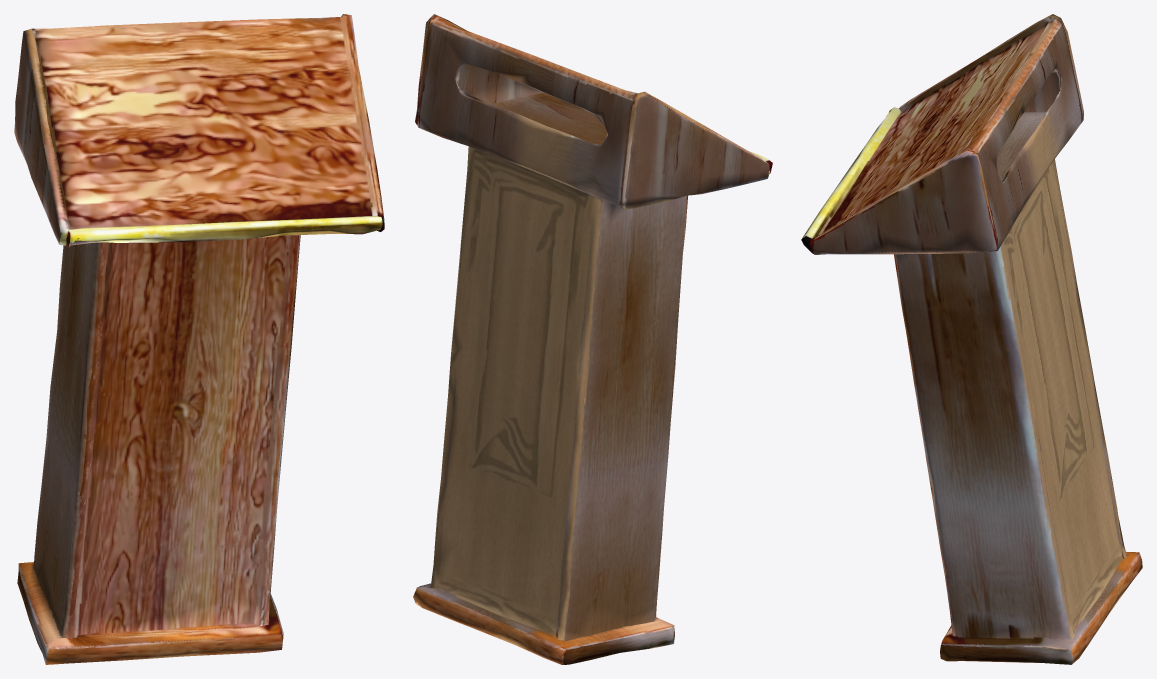
Rendered from rd_lectern.glb.
3 renders of one model, left to right at view 1: azimuth 30°, elevation 25°; view 2: azimuth 150°, elevation 25°; view 3: azimuth 270°, elevation 25°, orthographic. The views are drawn at different scales.
Bounding box in the file's own units: 0.5146 × 0.9198 × 0.5077.
1 material, 1 textured.
